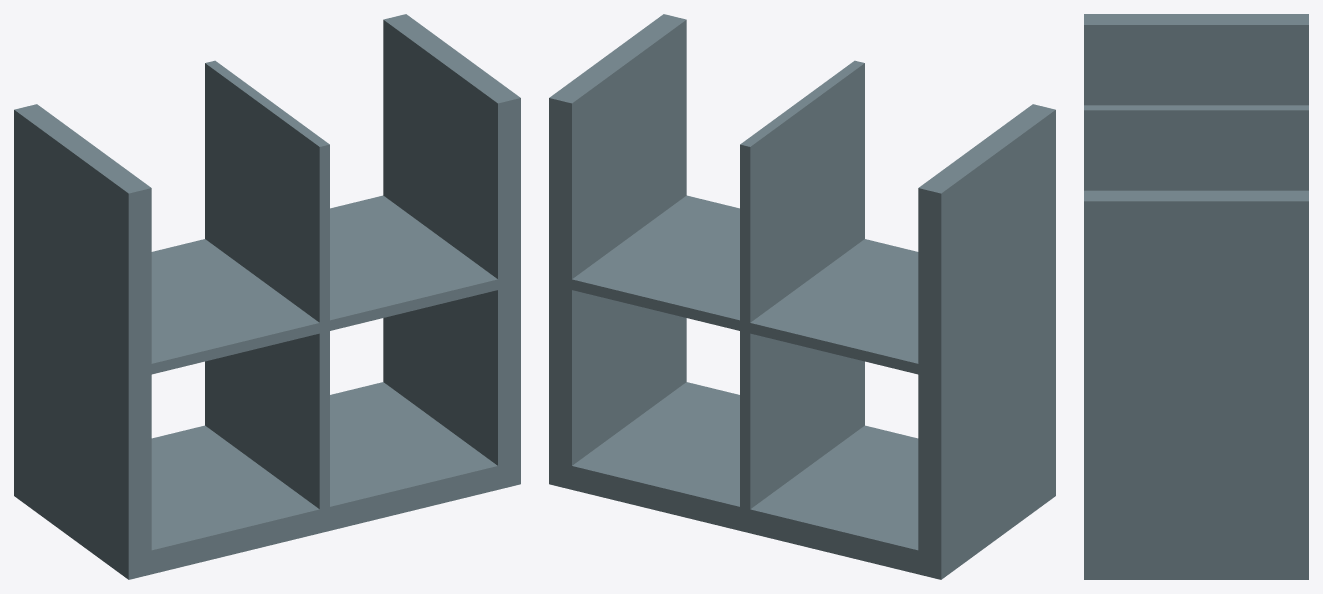
The model's file is step-6.obj.
3 views of the same model, side by side, from view 1: azimuth 30°, elevation 25°; view 2: azimuth 150°, elevation 25°; view 3: azimuth 270°, elevation 25° (orthographic). The views are drawn at different scales.
Parts seen in each view (by area): view 1: IKE170029; view 2: IKE170029; view 3: IKE170029.
Part boxes in pixels (bbox=[...]): IKE170029: bbox=[14, 14, 520, 579]; IKE170029: bbox=[549, 14, 1055, 579]; IKE170029: bbox=[1084, 14, 1308, 579].
Bounding box in the file's own units: 0.77 × 0.725 × 0.39.
